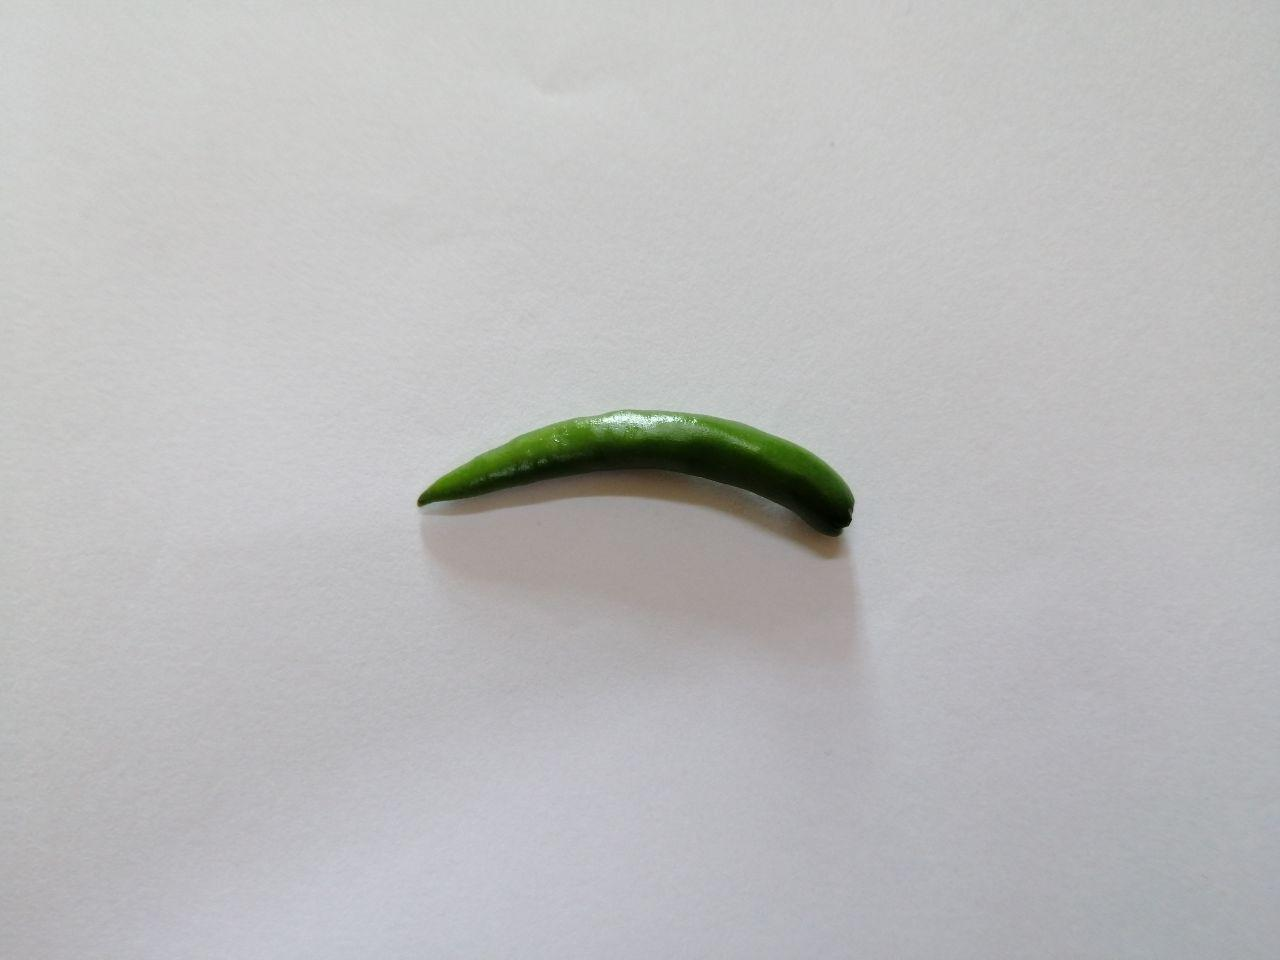lada hijau: (406, 403, 872, 561)
